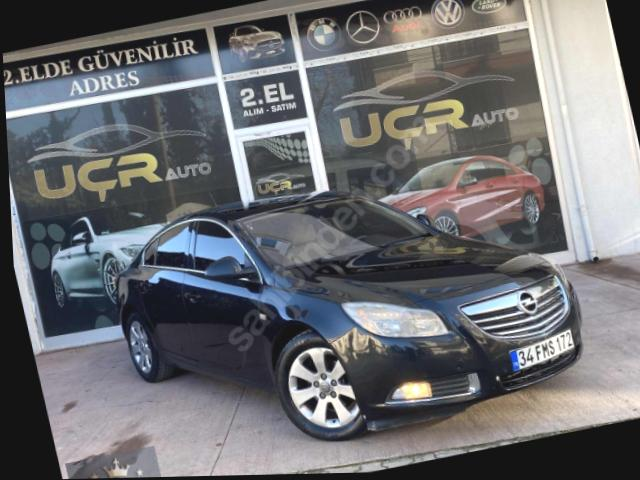plaka: (509, 329, 574, 370)
